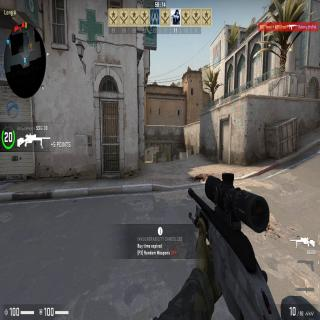T-Body: (147, 150, 150, 156)
T-Head: (148, 150, 149, 151)
